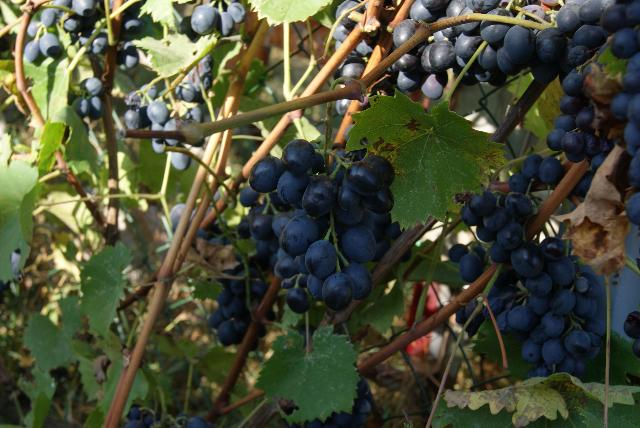grapes: (456, 155, 605, 379), (244, 139, 395, 312)
